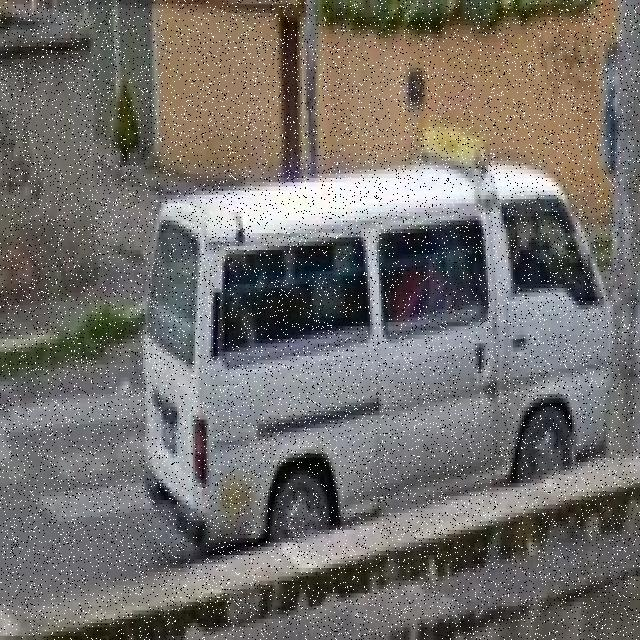cars: (144, 171, 614, 497)
